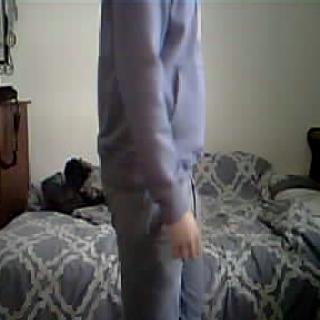Blue Hoodie: (96, 0, 206, 182)
Blue Sweatpants: (101, 175, 207, 320)
